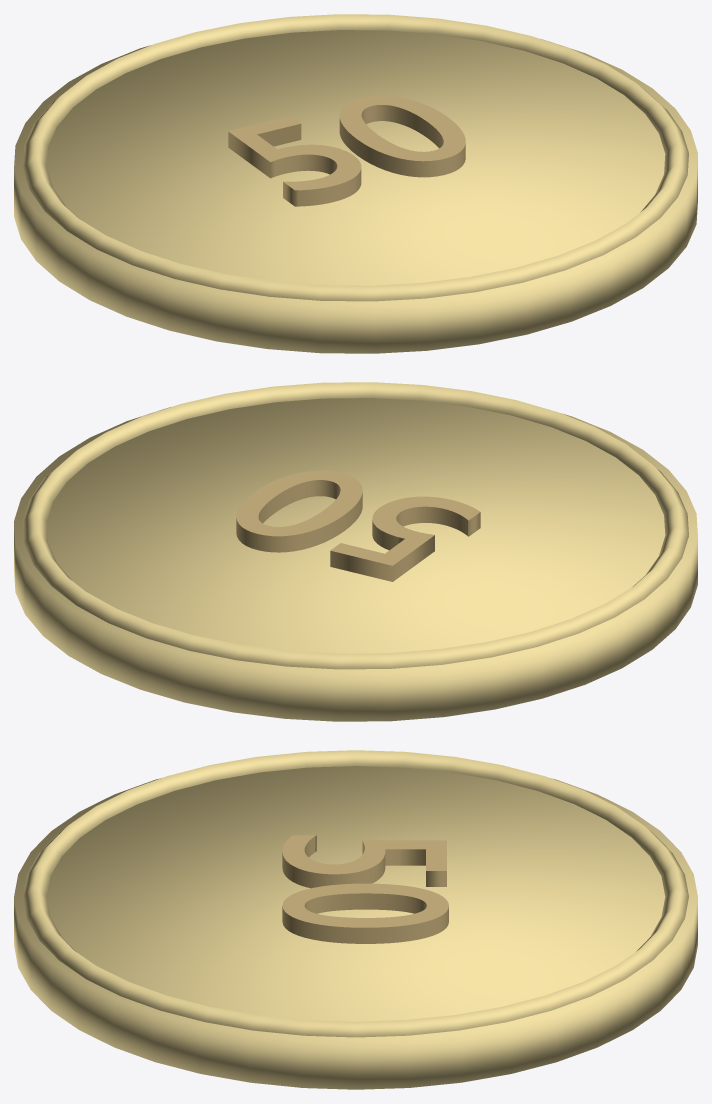
The model's file is coin.glb.
3 renders of one model, top to bottom at view 1: azimuth 30°, elevation 25°; view 2: azimuth 150°, elevation 25°; view 3: azimuth 270°, elevation 25°, orthographic.
Visible parts, largest first — view 1: coin_body, coin_rim, coin_value; view 2: coin_body, coin_rim, coin_value; view 3: coin_body, coin_rim, coin_value.
Boxes of the visible parts, x1,y1,x2,y2 form: coin_body: (14,30,697,353); coin_rim: (23,14,688,301); coin_value: (228,95,465,206); coin_body: (14,398,697,721); coin_rim: (23,382,688,669); coin_value: (236,470,480,581); coin_body: (14,766,697,1089); coin_rim: (23,750,688,1037); coin_value: (282,835,448,943).
Size of the model in its own units: 0.023 by 0.0024 by 0.023.
